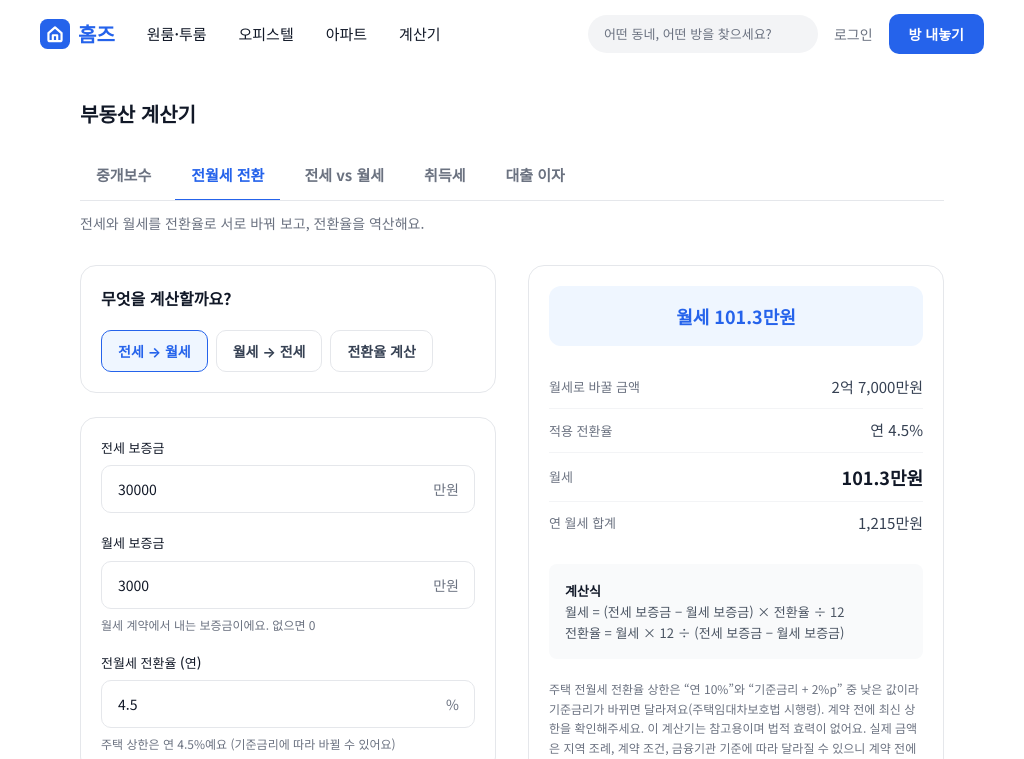
Test case: rent conversion tab › converts monthly rent back to jeonse
Click the radio button labelled "월세 → 전세".
click(269, 350)  # box [216,330,322,372]
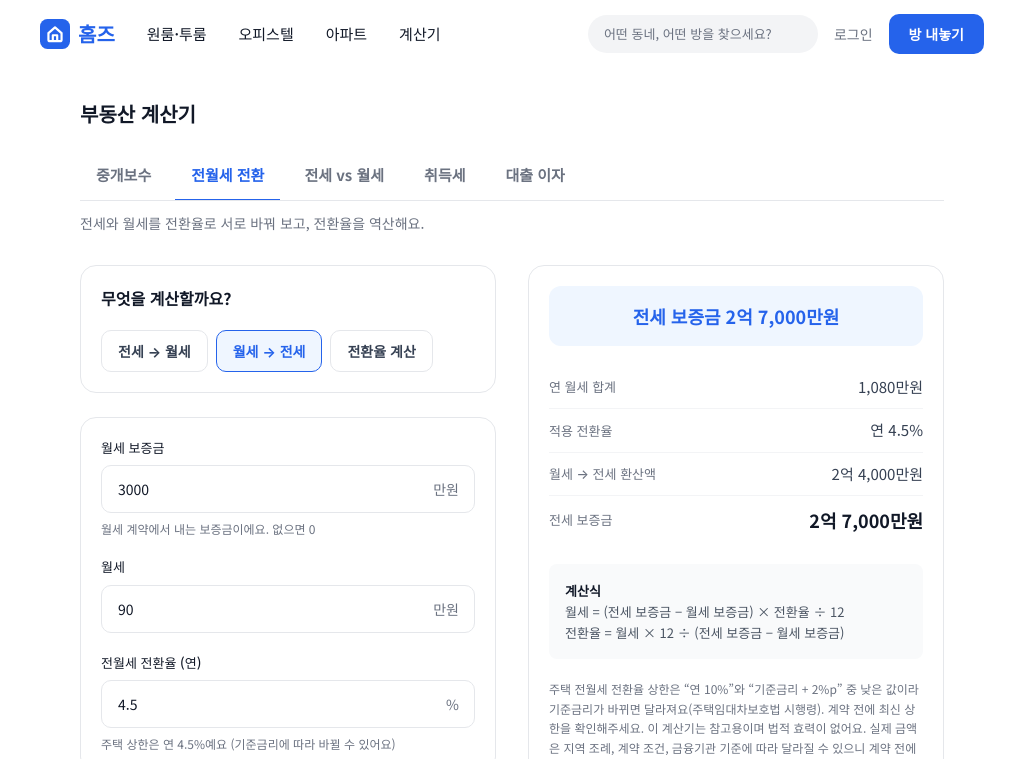
Expected: the text "전세 보증금 2억 7,000만원" is shown, [633,302,839,328]
